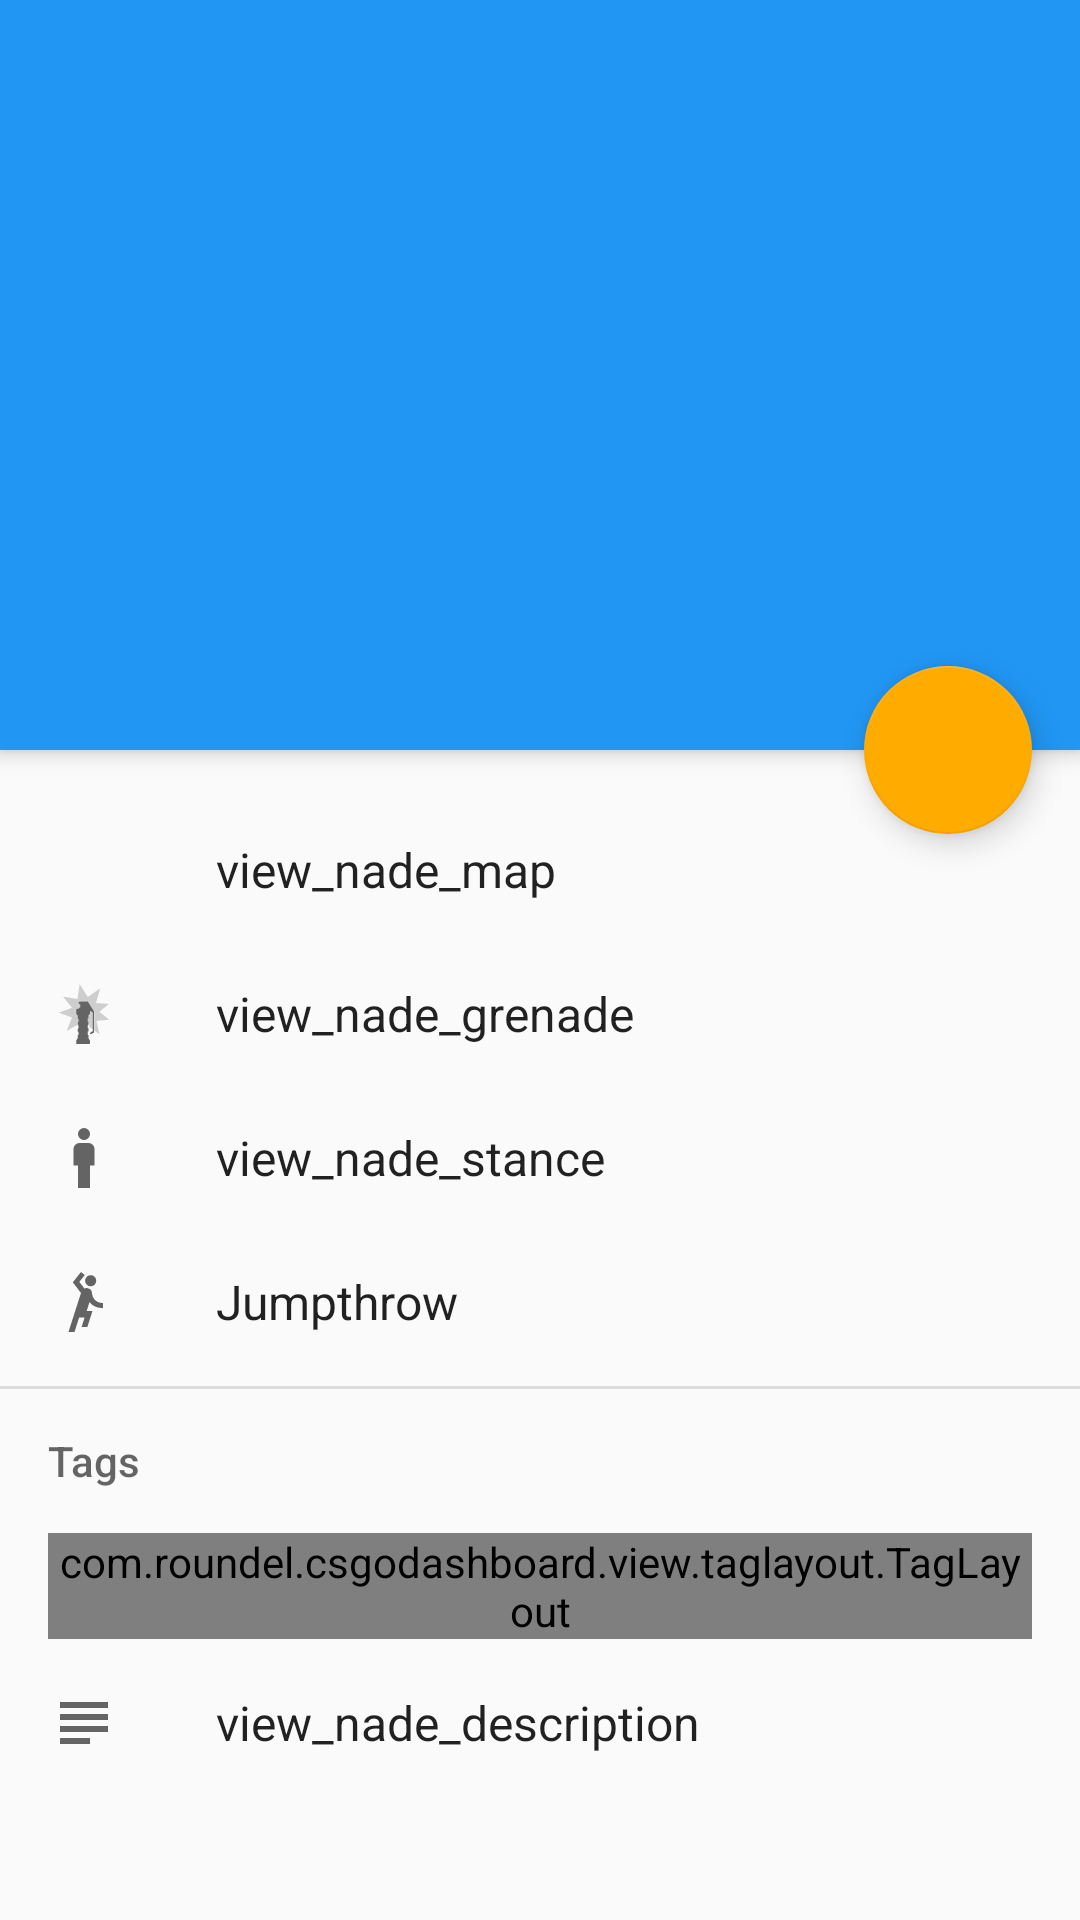

Screen size 1080 × 1920. Icon name, then its box in pixels as (x1, y1, x2, y2):
csgo flashbang: (59, 985, 109, 1044)
stance standing: (73, 1128, 95, 1188)
subject: (60, 1702, 108, 1744)
